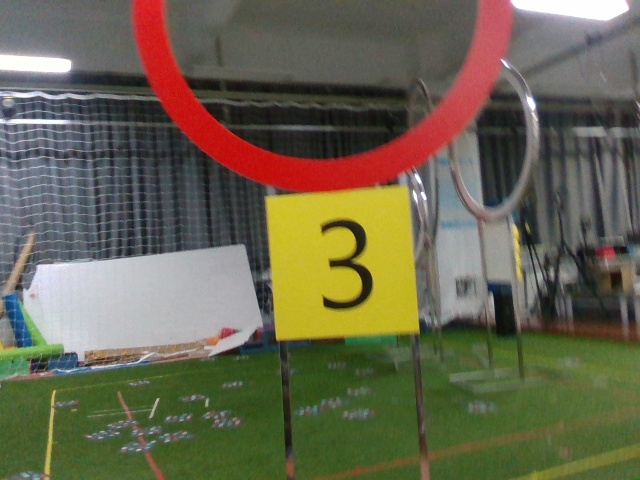target: (274, 191, 411, 336)
